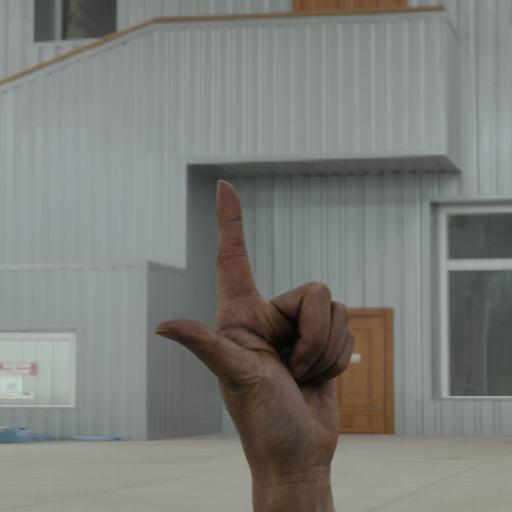L: (150, 178, 358, 477)
